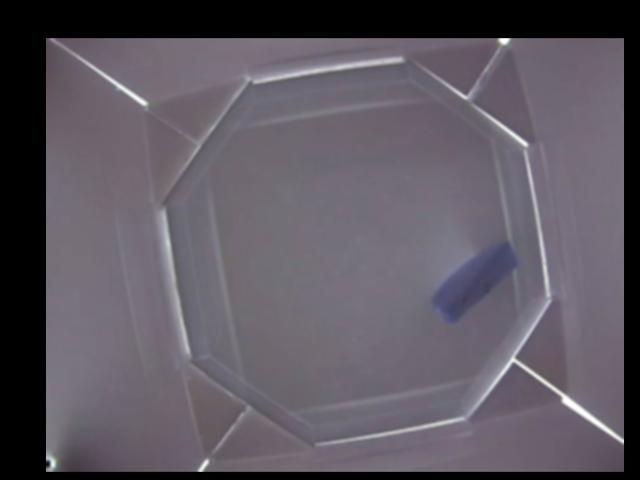Mooli: (431, 239, 521, 321)
